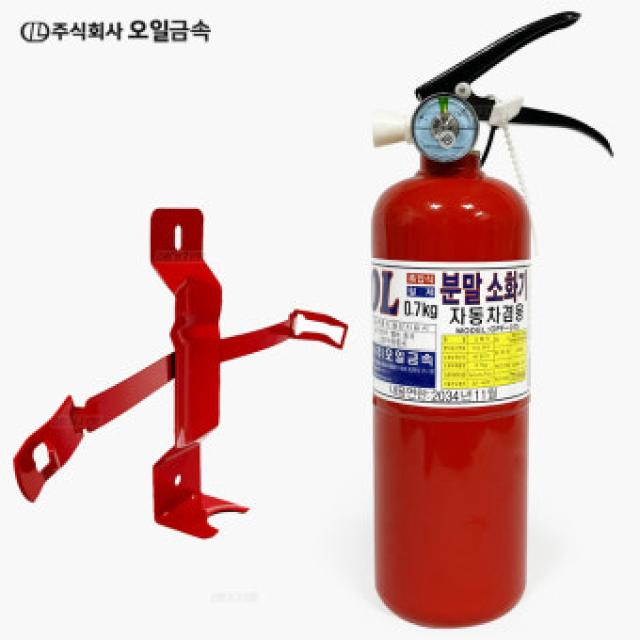pressure gauge: (411, 95, 478, 161)
